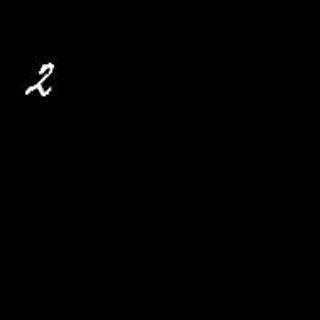two: (24, 59, 54, 100)
